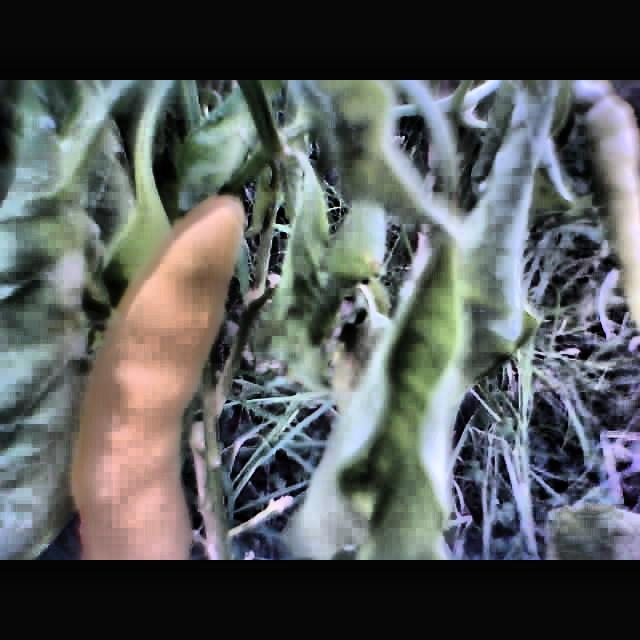Cabai: (77, 195, 230, 560)
